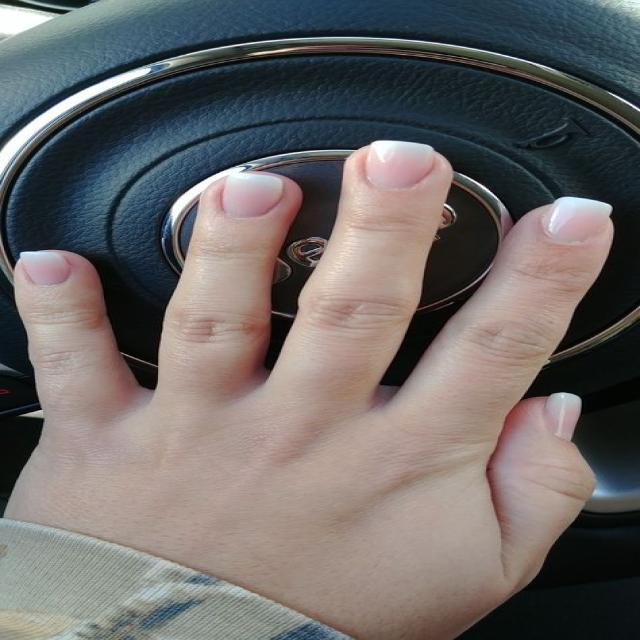Fingernail: (366, 141, 433, 189), (547, 197, 613, 243), (223, 174, 282, 217), (543, 393, 581, 440), (20, 252, 70, 285)
